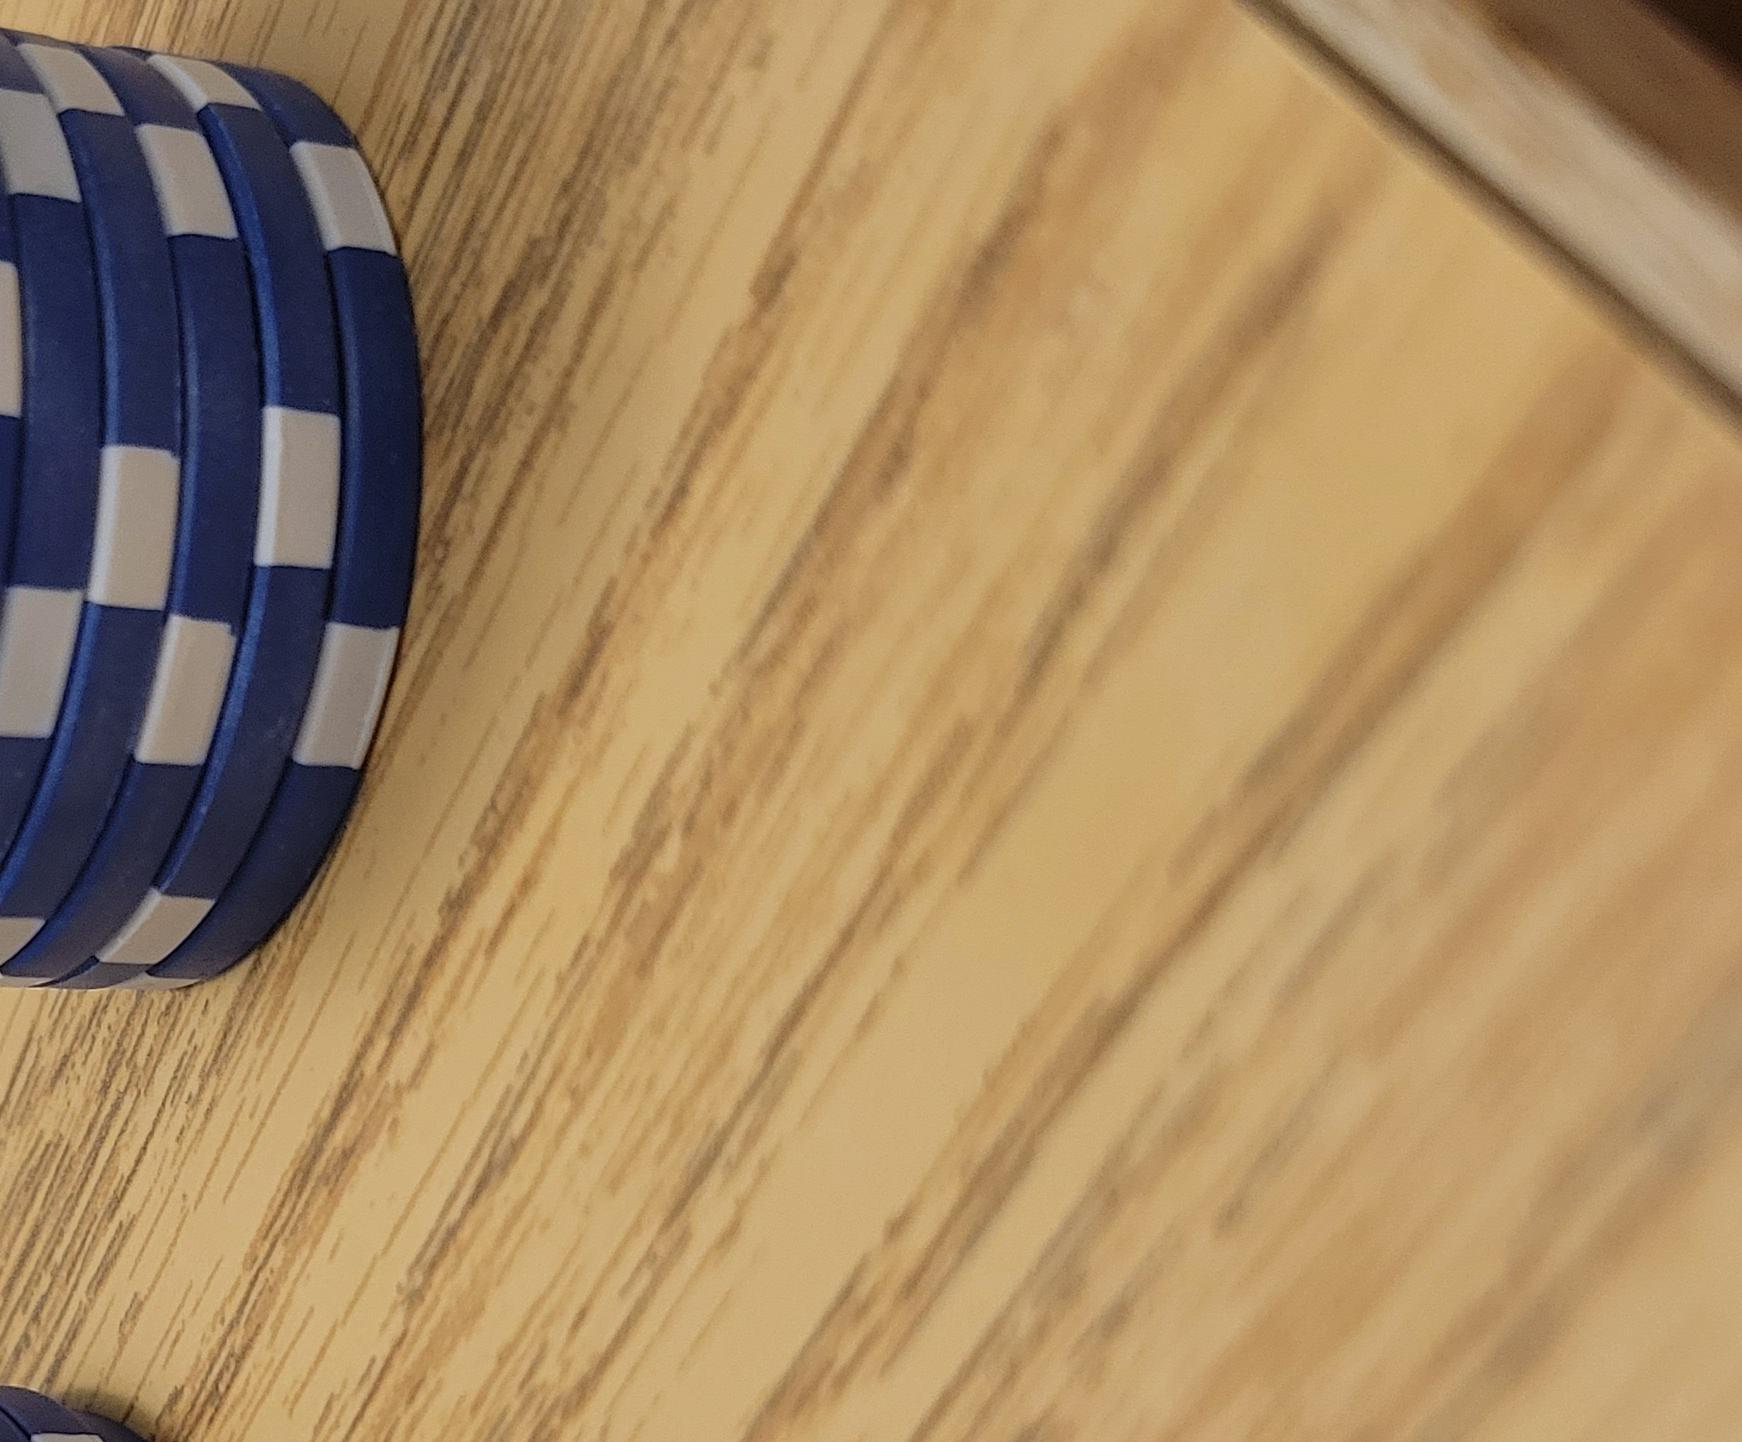Chip: (1, 135, 789, 1442)
